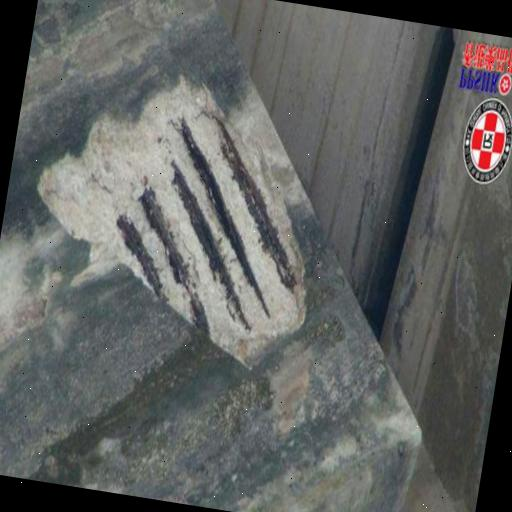spalling: (35, 76, 305, 365)
